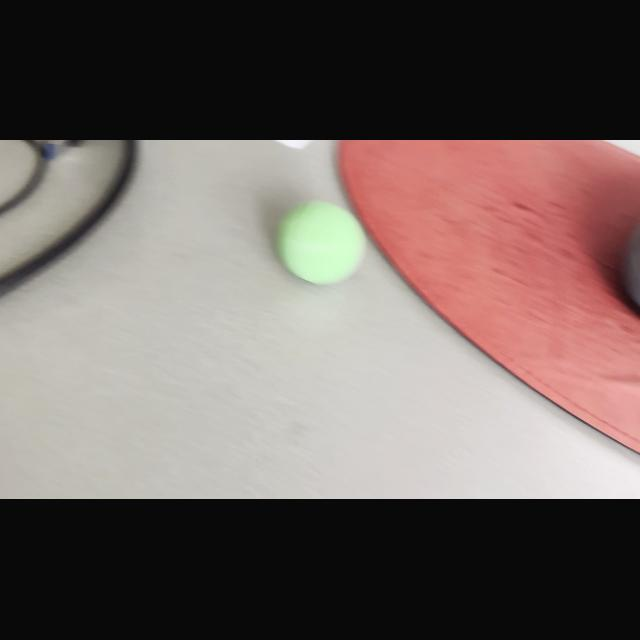objects: (270, 195, 374, 291)
